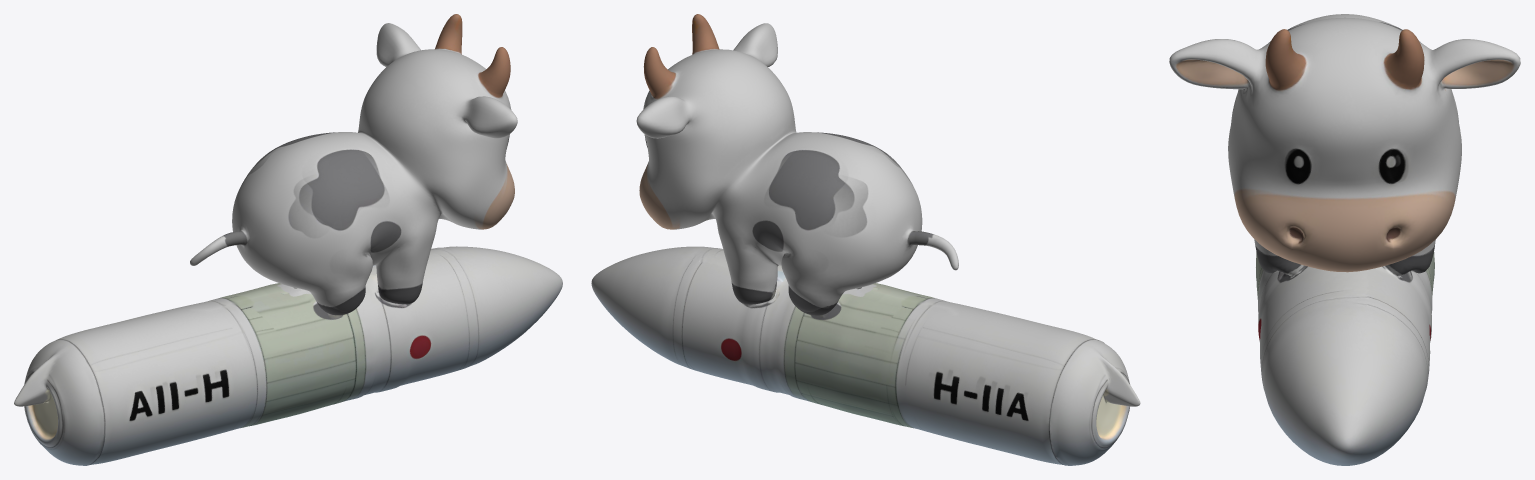
Rendered from cartoon+cow+3d+model.fbx.
The picture shows the model from 3 angles, left to right: view 1: azimuth 30°, elevation 25°; view 2: azimuth 150°, elevation 25°; view 3: azimuth 270°, elevation 25°; orthographic projection. The views are drawn at different scales.
Parts seen in each view (by area): view 1: tripo_node_a9c3e6f4; view 2: tripo_node_a9c3e6f4; view 3: tripo_node_a9c3e6f4.
Part boxes in pixels (x1,y1,x2,y2): tripo_node_a9c3e6f4: (14, 14, 562, 465); tripo_node_a9c3e6f4: (591, 14, 1140, 465); tripo_node_a9c3e6f4: (1169, 14, 1520, 465).
Bounding box in the file's own units: 0.9997 × 0.5808 × 0.4133.
Materials: 1 (1 with a texture image).
